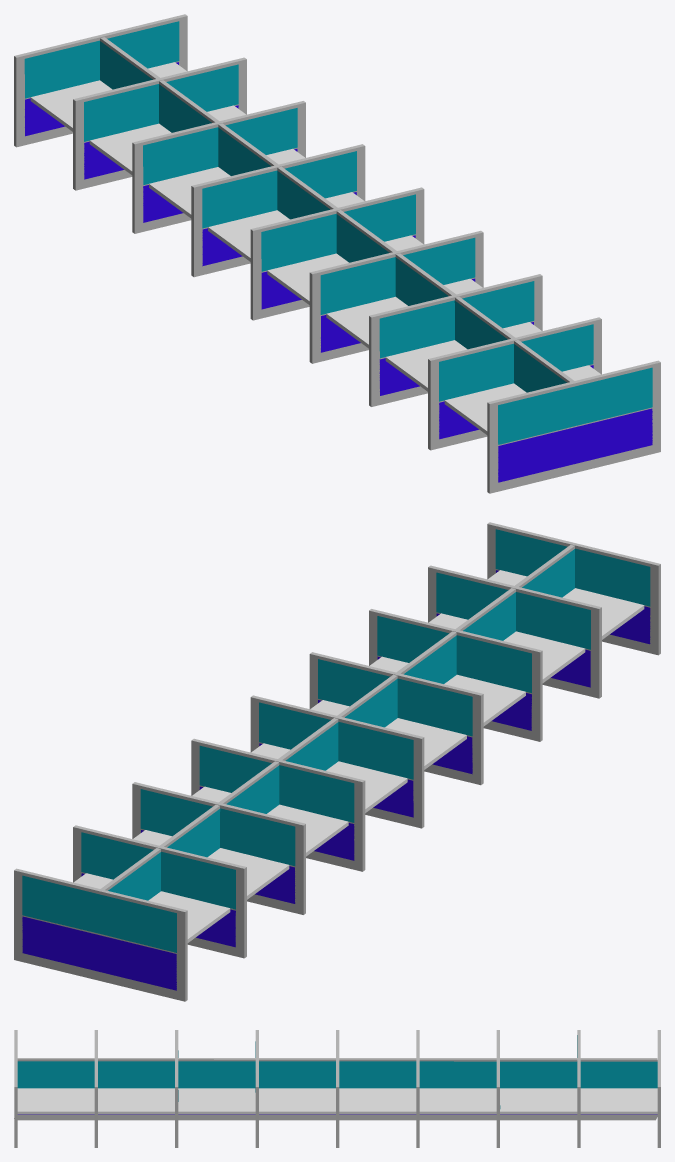
Rendered from Cubiculos sin supervisor.fbx.
3 renders of one model, top to bottom at view 1: azimuth 30°, elevation 25°; view 2: azimuth 150°, elevation 25°; view 3: azimuth 270°, elevation 25°, orthographic. The views are drawn at different scales.
Visible parts, largest first — view 1: Cube.002; view 2: Cube.002; view 3: Cube.002.
Boxes of the visible parts, bbox=[...] form: Cube.002: bbox=[14, 14, 660, 493]; Cube.002: bbox=[14, 522, 660, 1001]; Cube.002: bbox=[14, 1030, 660, 1147].
Size of the model in its own units: 800 by 401 by 3850.
